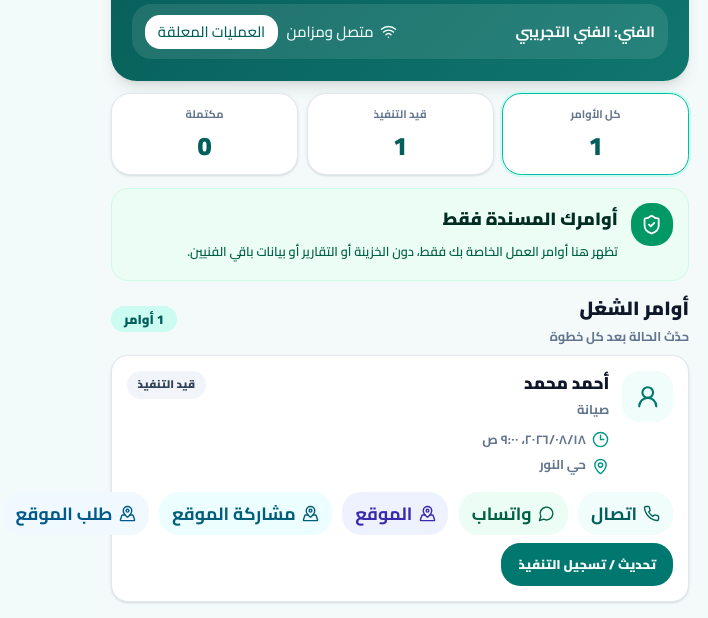
Test case: واجهة الفني وأوامر العمل › تسمح باختيار سبب جاهز عند عدم التنفيذ
The width and height of the screenshot is (708, 618).
Click the button "تحديث / تسجيل التنفيذ" at (587, 564), box [501, 543, 673, 586]
(page scrolled)
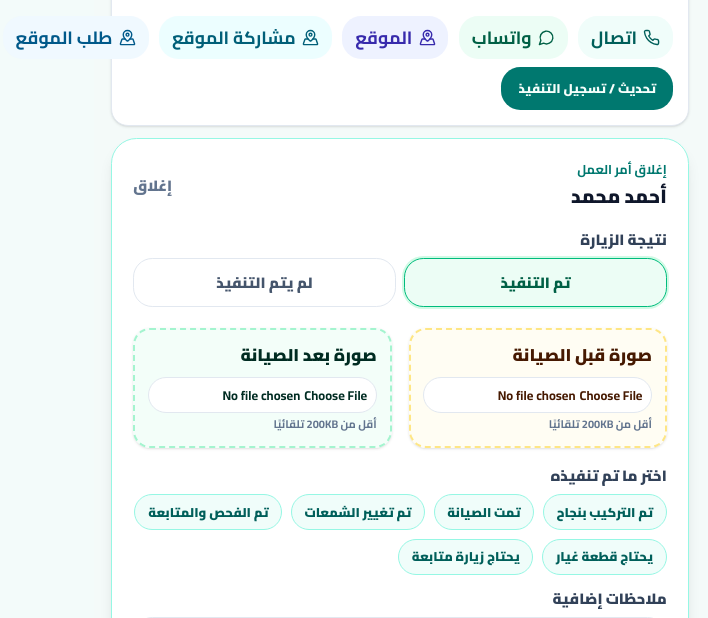
Click the button "لم يتم التنفيذ" at (265, 283), box [133, 258, 396, 307]
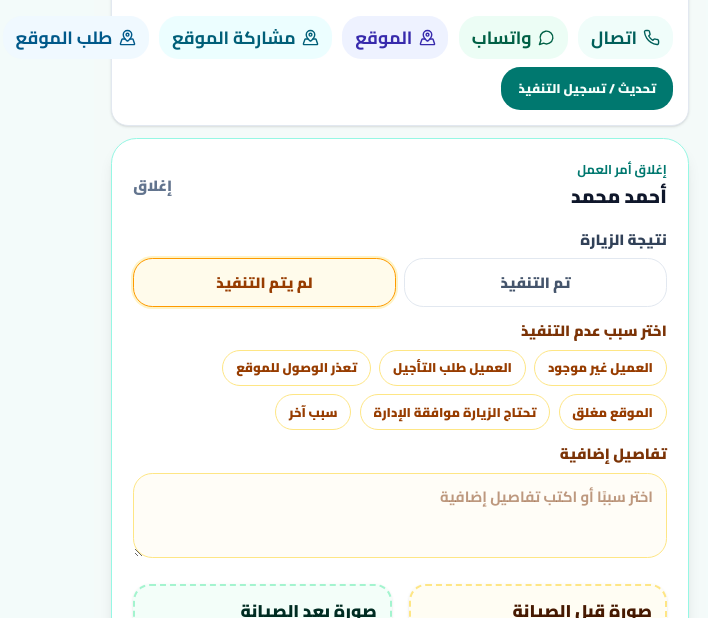
Click the button "العميل طلب التأجيل" at (452, 368), box [379, 350, 526, 386]
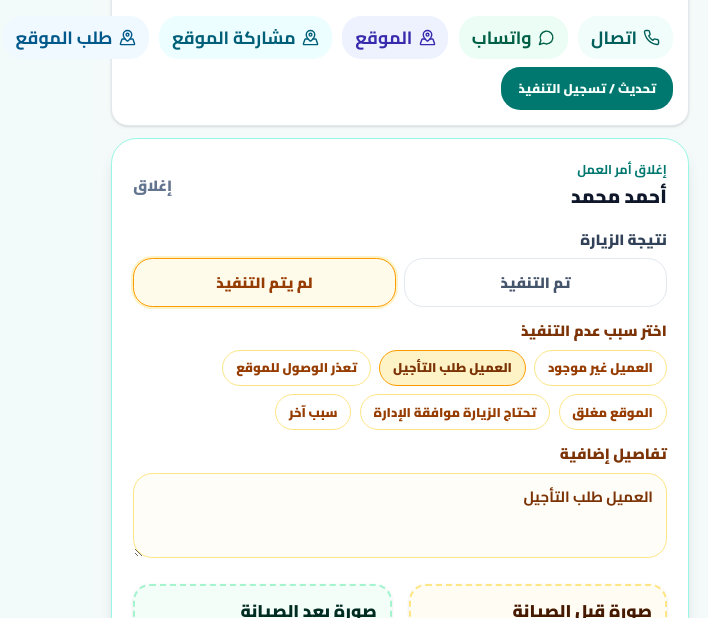
Expected: the text box named "سبب عدم التنفيذ" holds "العميل طلب التأجيل", [133, 472, 667, 558]
